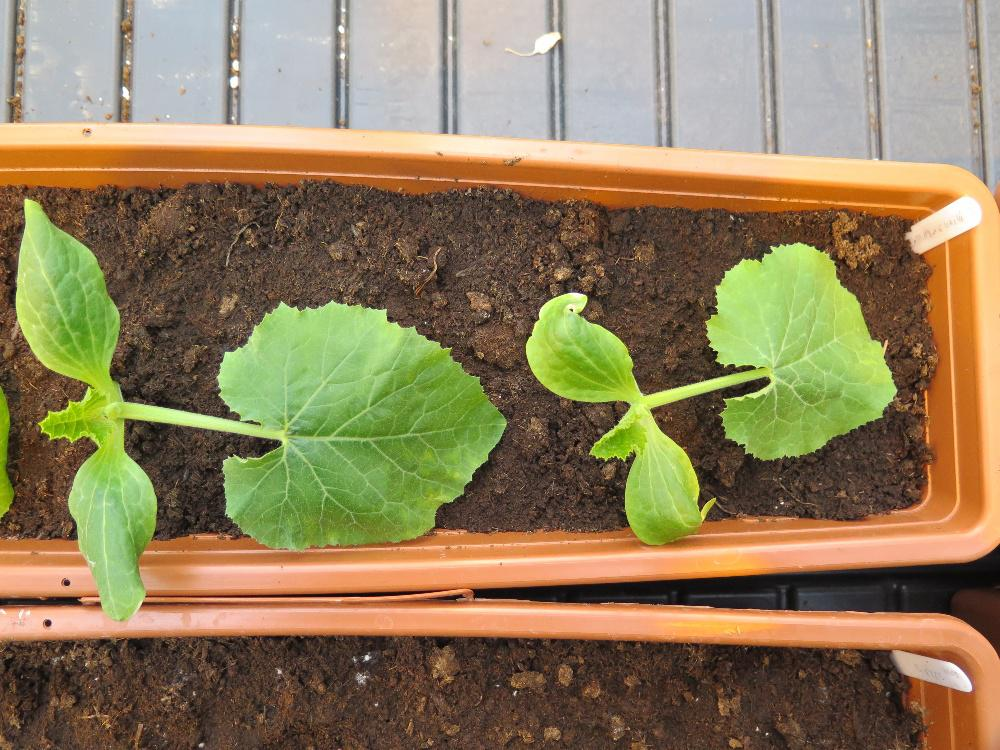crop: (13, 194, 507, 624), (522, 241, 902, 548)
